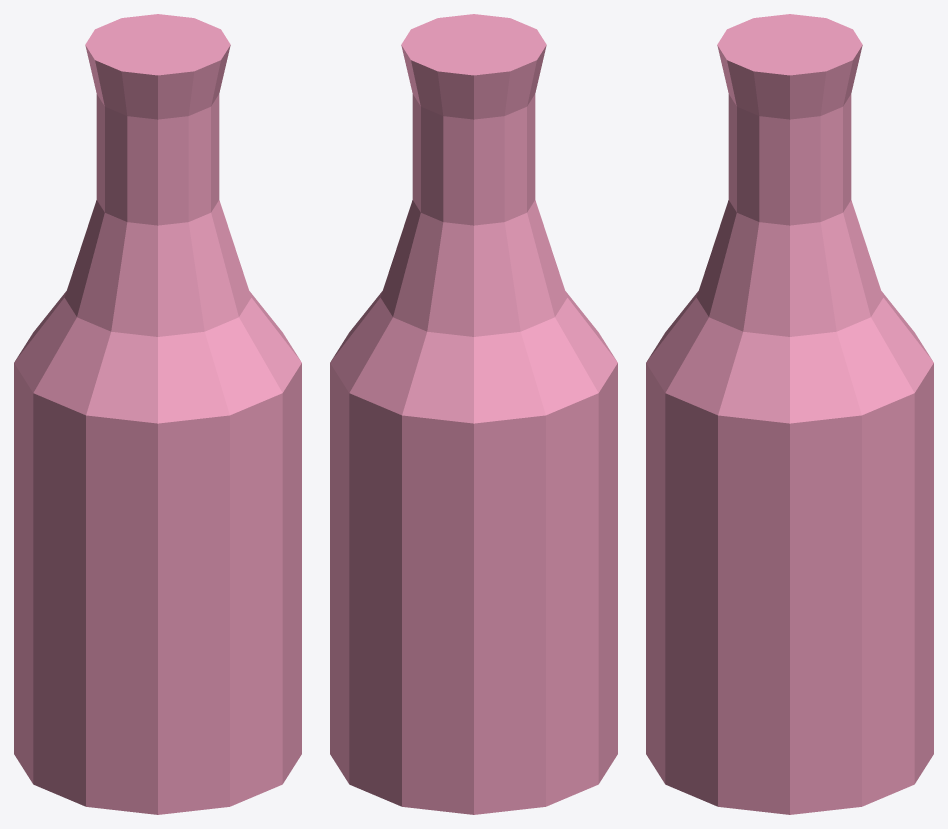
File: bottle.glb
The picture shows the model from 3 angles, left to right: view 1: azimuth 30°, elevation 25°; view 2: azimuth 150°, elevation 25°; view 3: azimuth 270°, elevation 25°; orthographic projection.
Visible parts, largest first — view 1: group1683325338; view 2: group1683325338; view 3: group1683325338.
Boxes of the visible parts, x1=… form: group1683325338: x1=14, y1=14, x2=301, y2=814; group1683325338: x1=330, y1=14, x2=617, y2=814; group1683325338: x1=646, y1=14, x2=933, y2=814.
Size of the model in its own units: 0.32 by 0.87 by 0.32.
